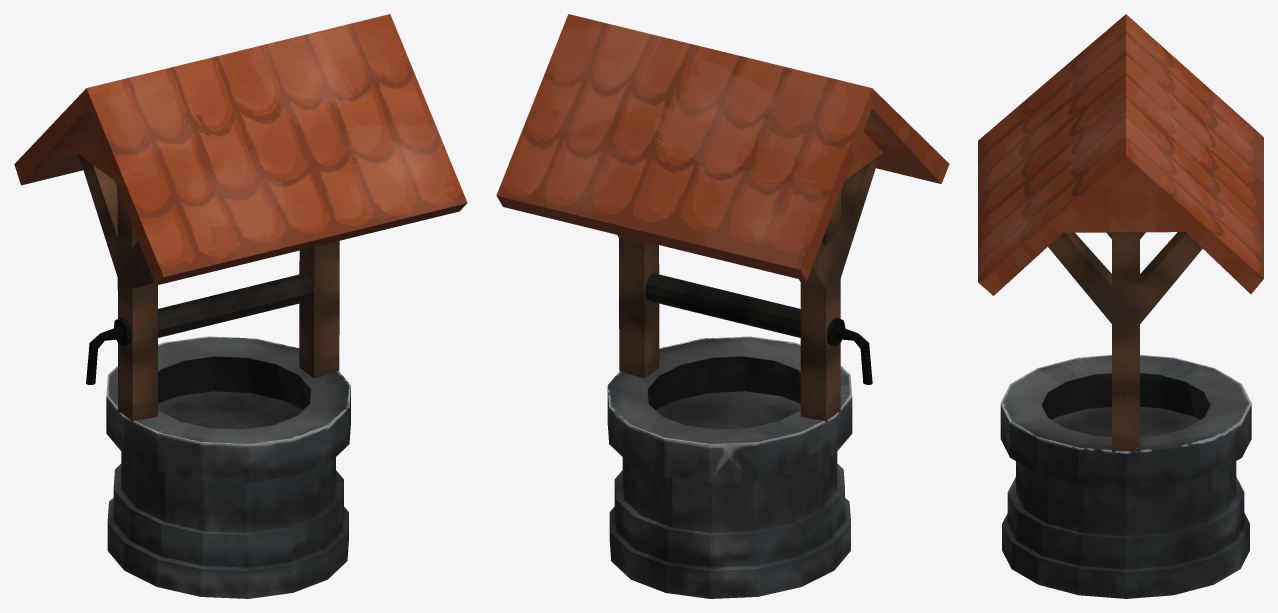
Rendered from su_kuyusu.fbx.
3 views of the same model, side by side, from view 1: azimuth 30°, elevation 25°; view 2: azimuth 150°, elevation 25°; view 3: azimuth 270°, elevation 25° (orthographic). The views are drawn at different scales.
Visible parts, largest first — view 1: Plane, Cylinder, Cube.003, Cylinder.001; view 2: Plane, Cylinder, Cube.003, Cylinder.001; view 3: Cylinder, Plane, Cube.003.
Boxes of the visible parts, bbox=[...] form: Plane: bbox=[14, 14, 467, 285]; Cylinder: bbox=[106, 336, 350, 598]; Cube.003: bbox=[78, 154, 339, 422]; Cylinder.001: bbox=[86, 273, 313, 384]; Plane: bbox=[496, 14, 949, 280]; Cylinder: bbox=[607, 336, 852, 598]; Cube.003: bbox=[617, 155, 879, 422]; Cylinder.001: bbox=[645, 273, 872, 384]; Cylinder: bbox=[1000, 355, 1251, 598]; Plane: bbox=[978, 14, 1263, 295]; Cube.003: bbox=[1048, 231, 1202, 452].
Size of the model in its own units: 431 by 667 by 368.
4 materials, 4 textured.
